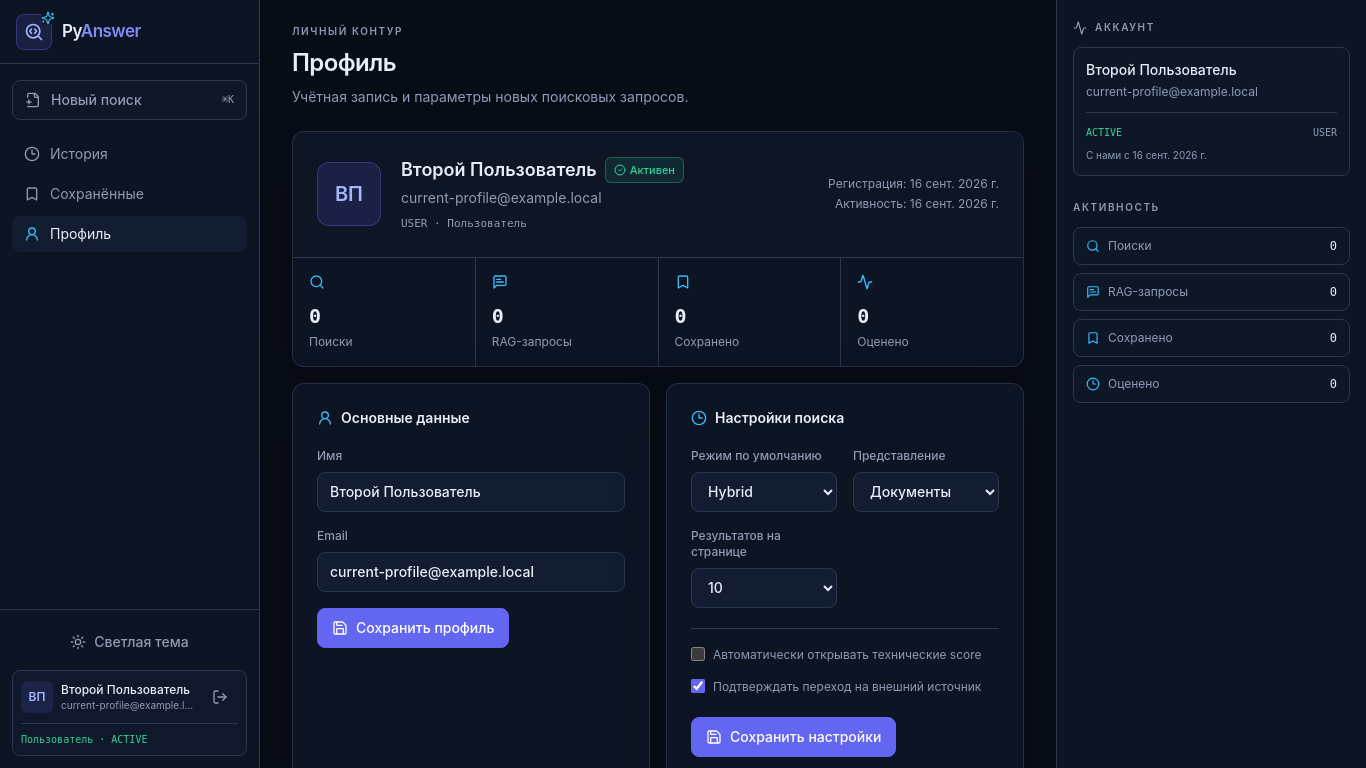
it: ProfilePage › показывает ошибку для занятого email без учёта регистра
This screenshot has width=1366, height=768.
Replace the text in the field labelled "Email" with "EMAIL-OWNER@EXAMPLE.LOCAL" at [471, 572], box [317,552,625,592]
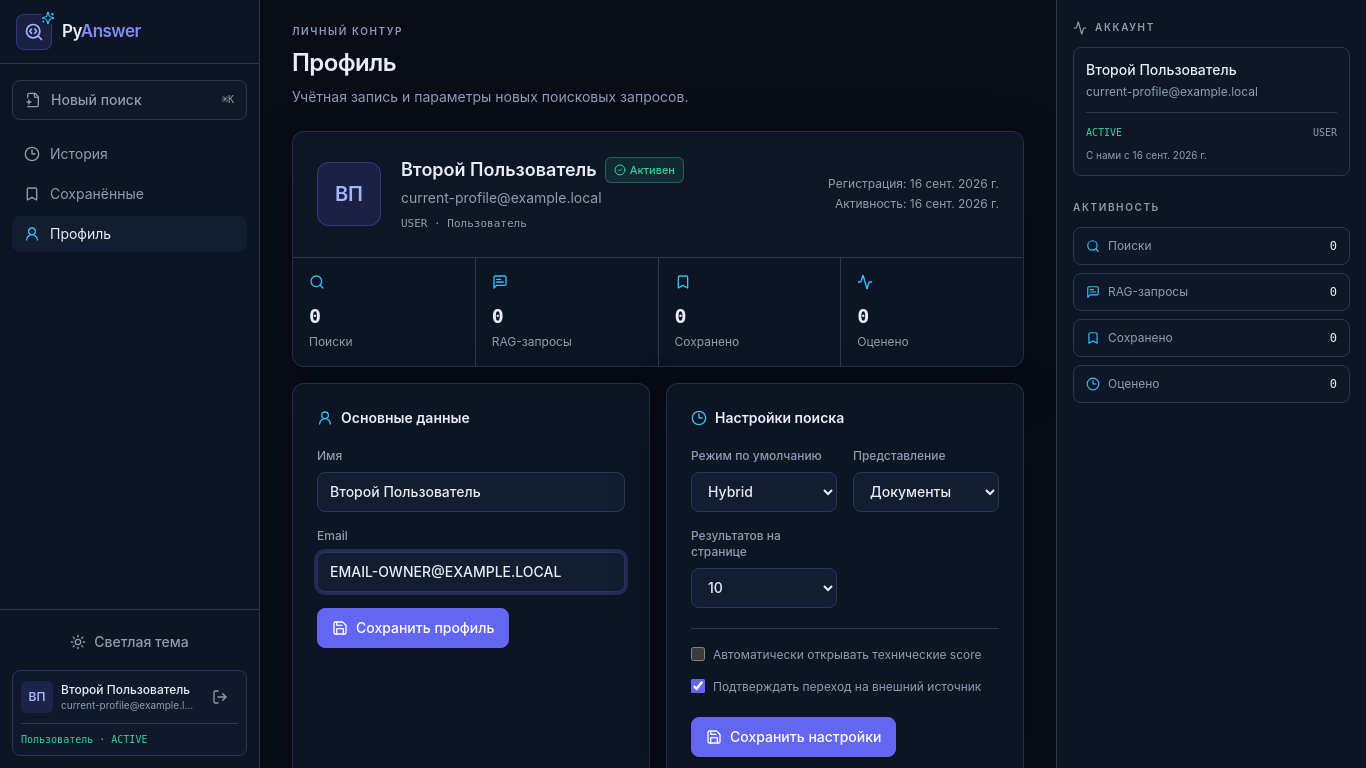
Click the button "Сохранить профиль" at [413, 628], box [317,608,510,648]
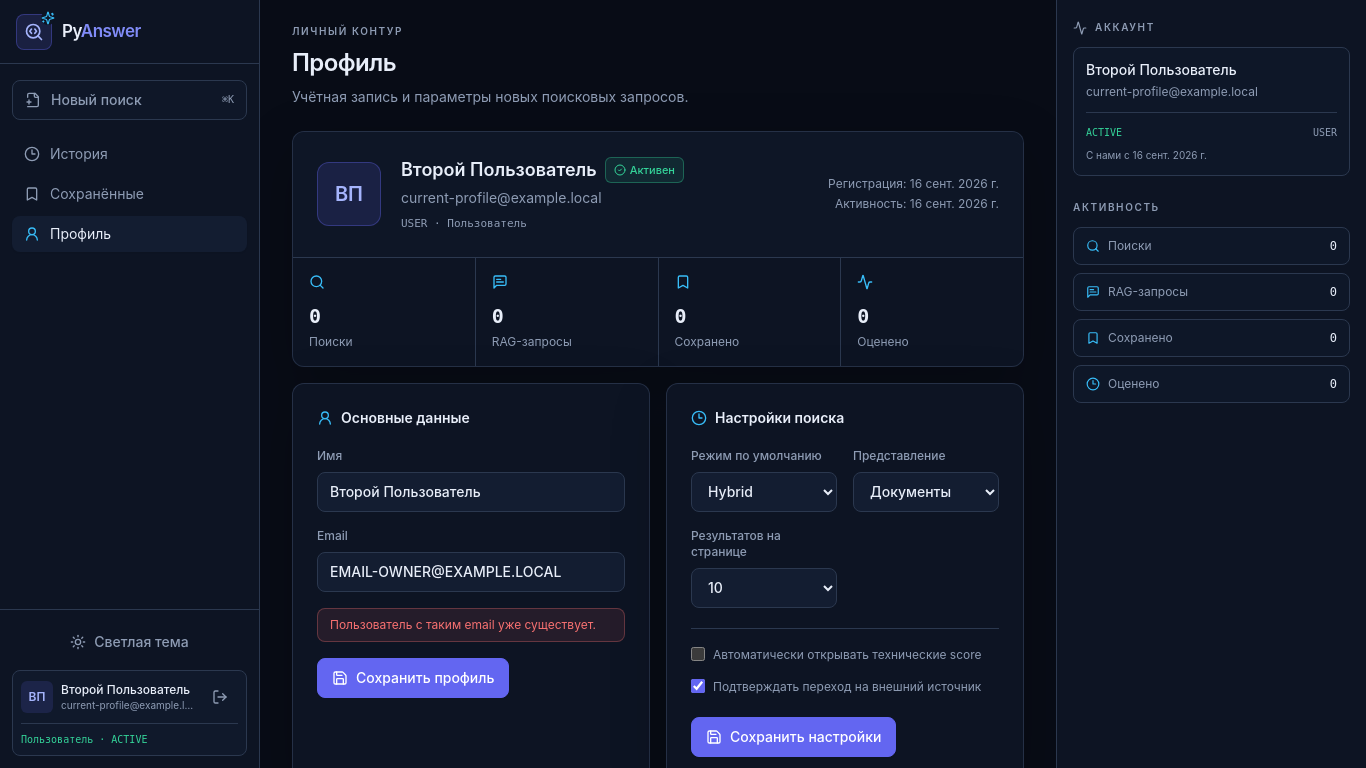
Expected: the text "Пользователь с таким email уже существует." is shown, [317,608,625,642]
